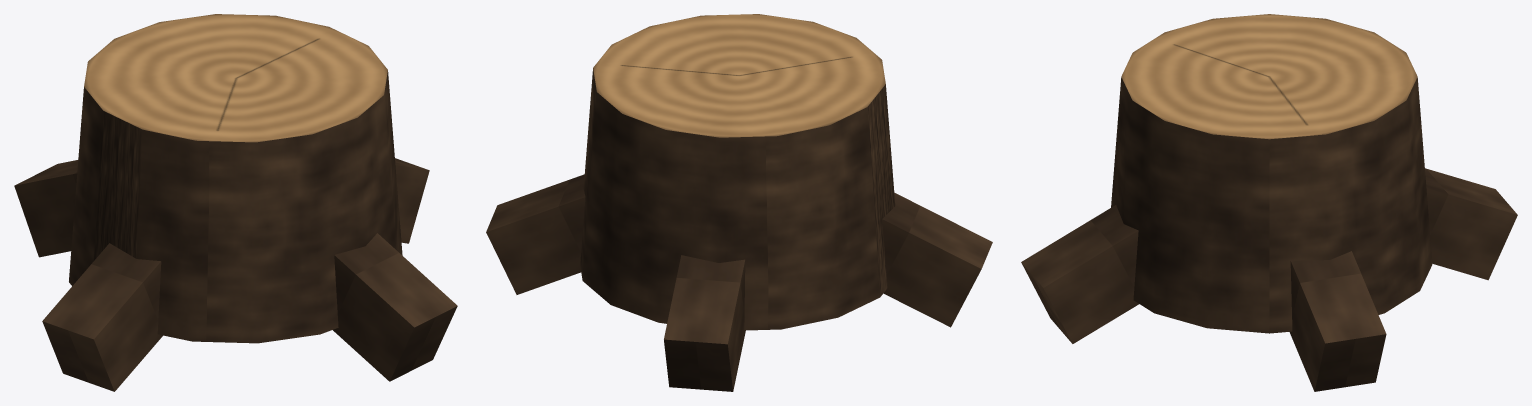
The model's file is Stump.gltf.
3 renders of one model, left to right at view 1: azimuth 30°, elevation 25°; view 2: azimuth 150°, elevation 25°; view 3: azimuth 270°, elevation 25°, orthographic. The views are drawn at different scales.
Visible parts, largest first — view 1: Stump; view 2: Stump; view 3: Stump.
Boxes of the visible parts, bbox=[...] form: Stump: bbox=[14, 14, 457, 391]; Stump: bbox=[486, 14, 992, 391]; Stump: bbox=[1021, 14, 1517, 391].
Size of the model in its own units: 1.68 by 0.8295 by 1.68.
2 materials, 2 textured.
